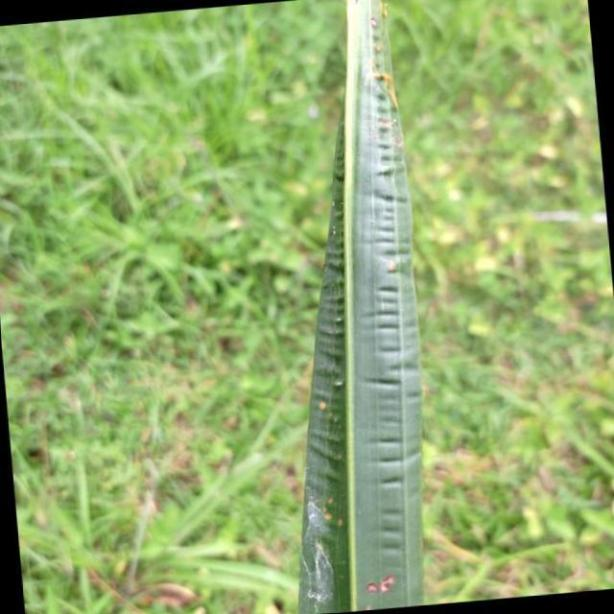Boron: (293, 7, 427, 614)
